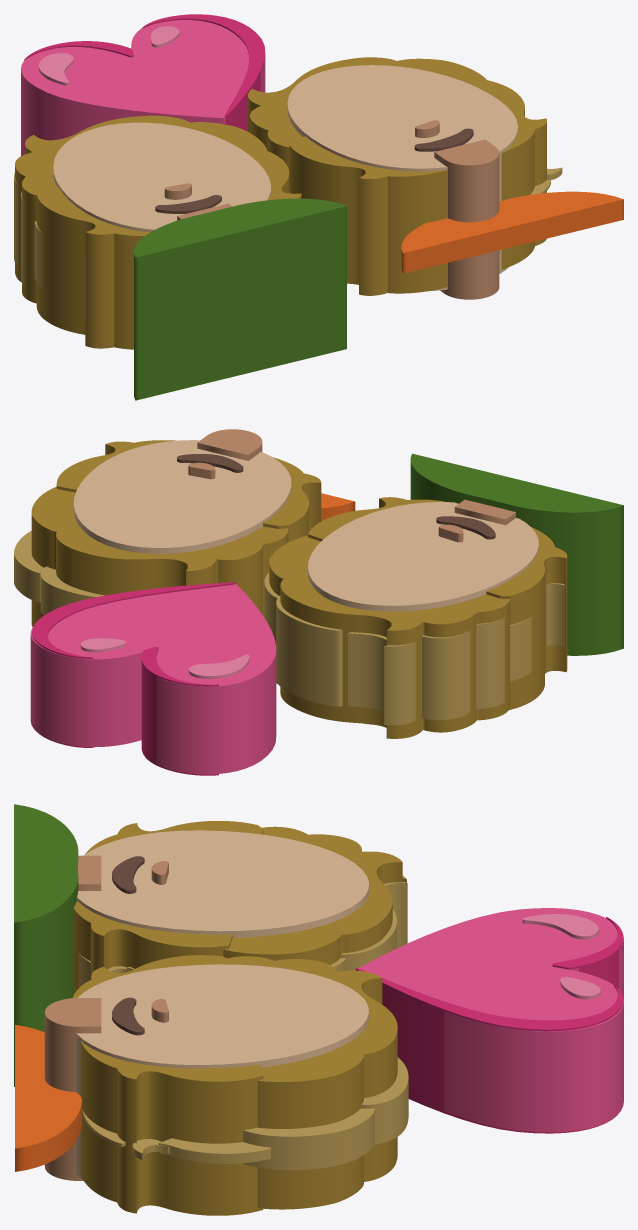
File: emoji_u1f491_1f3fc.glb
3 views of the same model, one above another, from view 1: azimuth 30°, elevation 25°; view 2: azimuth 150°, elevation 25°; view 3: azimuth 270°, elevation 25° (orthographic). The views are drawn at different scales.
Visible parts, largest first — view 1: emoji_u1f491_1f3fc; view 2: emoji_u1f491_1f3fc; view 3: emoji_u1f491_1f3fc.
Boxes of the visible parts, x1,y1,x2,y2 form: emoji_u1f491_1f3fc: (14,14,623,400); emoji_u1f491_1f3fc: (14,429,623,775); emoji_u1f491_1f3fc: (14,804,623,1215).
Bounding box in the file's own units: 0.0351 × 0.0098 × 0.033.
